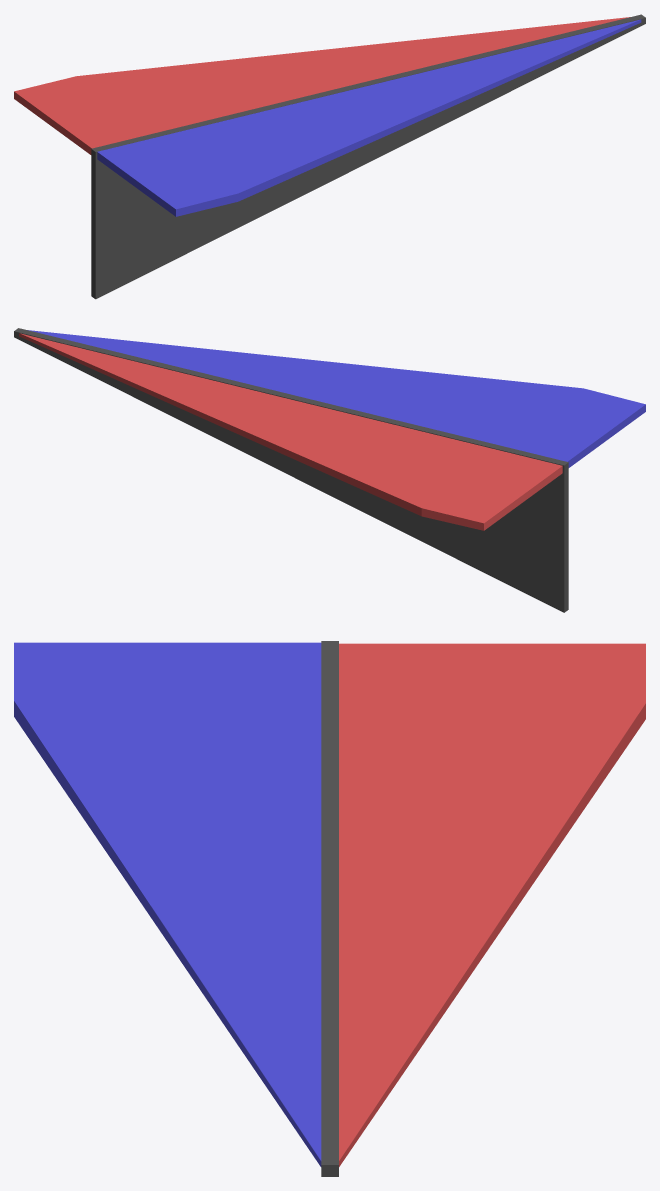
File: PaperPlane.fbx
The picture shows the model from 3 angles, top to bottom: view 1: azimuth 30°, elevation 25°; view 2: azimuth 150°, elevation 25°; view 3: azimuth 270°, elevation 25°; orthographic projection. The views are drawn at different scales.
Visible parts, largest first — view 1: RightWing, LeftWing, Body; view 2: LeftWing, RightWing, Body; view 3: RightWing, LeftWing, Body.
Boxes of the visible parts, x1,y1,x2,y2 form: RightWing: (97, 19, 641, 216); LeftWing: (14, 17, 630, 154); Body: (91, 14, 645, 299); LeftWing: (19, 333, 562, 530); RightWing: (27, 330, 645, 467); Body: (14, 328, 568, 612); RightWing: (14, 642, 321, 1166); LeftWing: (339, 643, 645, 1166); Body: (321, 641, 338, 1176).
Bounding box in the file's own units: 781 × 201 × 398.
